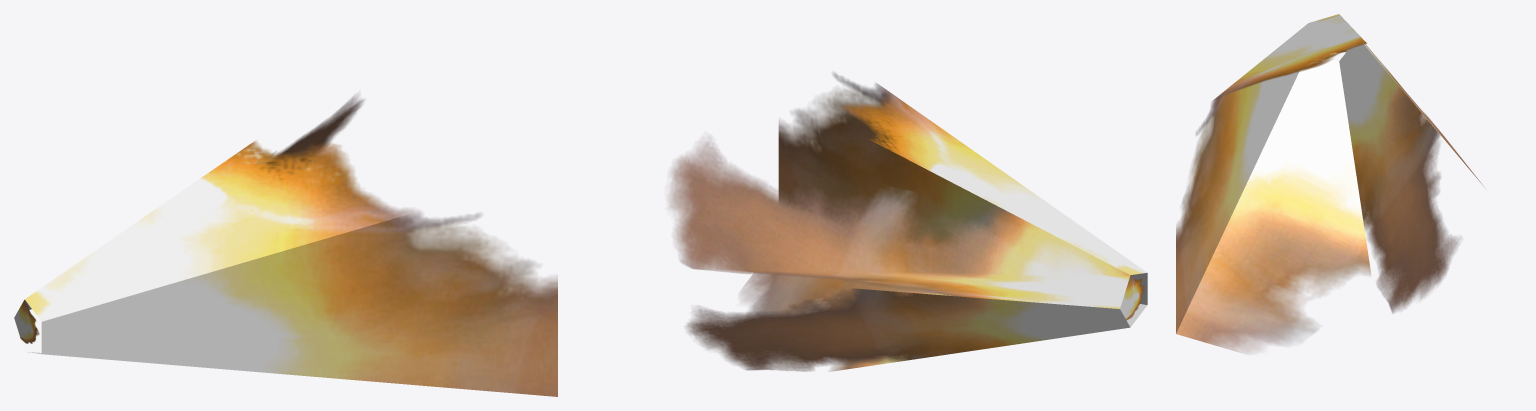
Rendered from muzzle flash test1.glb.
3 views of the same model, side by side, from view 1: azimuth 30°, elevation 25°; view 2: azimuth 150°, elevation 25°; view 3: azimuth 270°, elevation 25° (orthographic). The views are drawn at different scales.
Visible parts, largest first — view 1: Cylinder; view 2: Cylinder; view 3: Cylinder.
Boxes of the visible parts, <box> form: Cylinder: <box>14,94,557,396</box>; Cylinder: <box>667,72,1147,371</box>; Cylinder: <box>1176,14,1485,353</box>.
Size of the model in its own units: 1.27 by 1.01 by 0.9559.
1 material, 1 textured.
